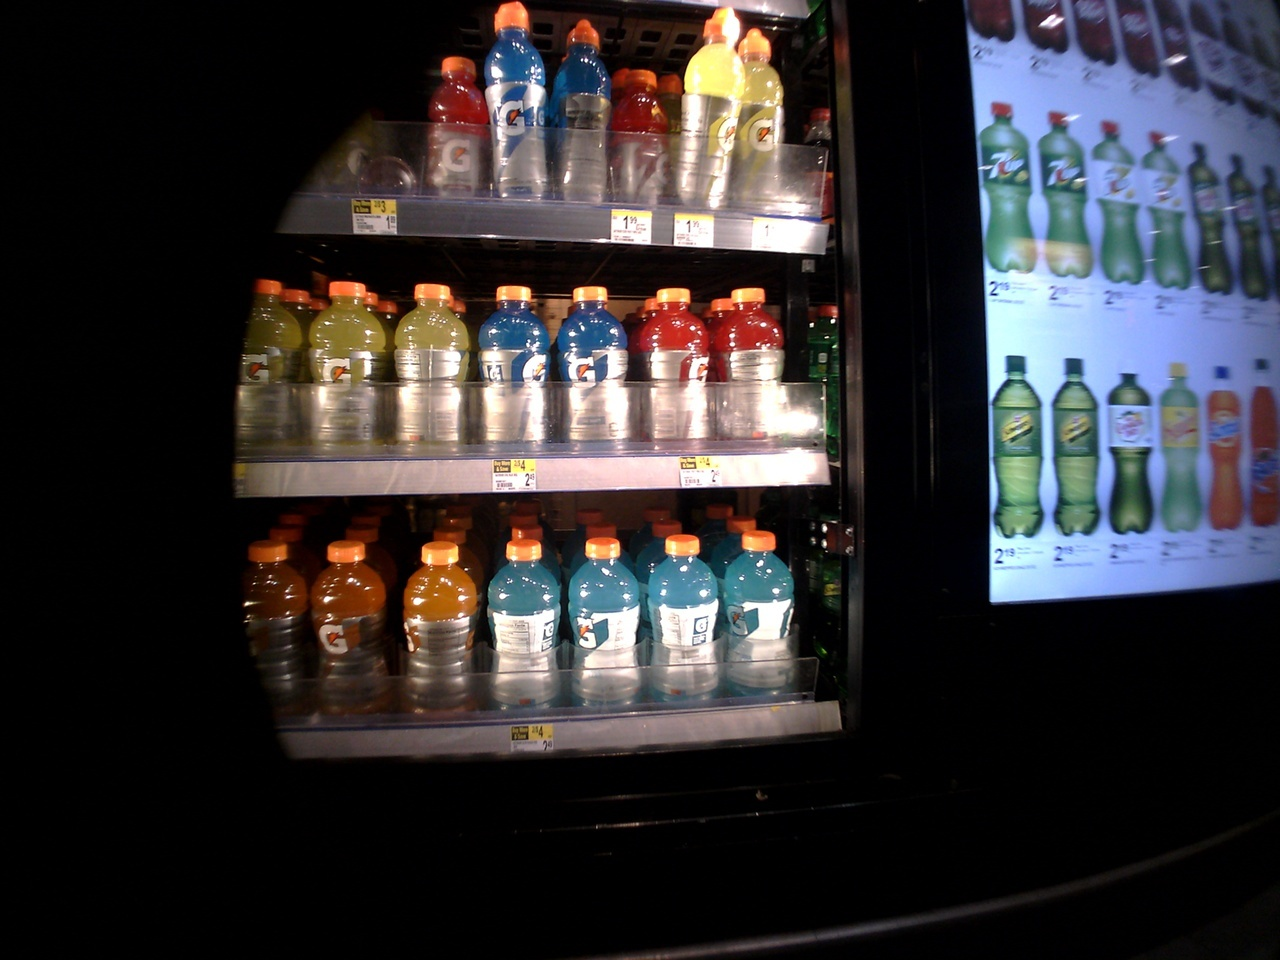shelf: (208, 493, 831, 748), (186, 11, 823, 253), (205, 258, 829, 492)
